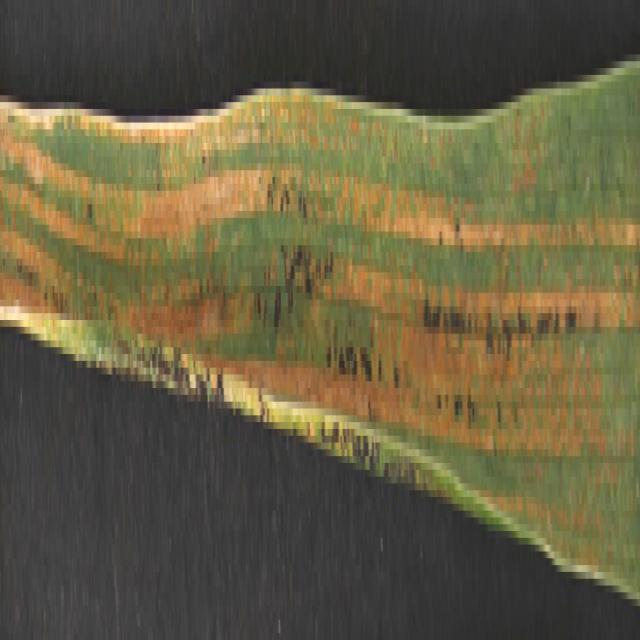leaf rust: (1, 82, 640, 483)
